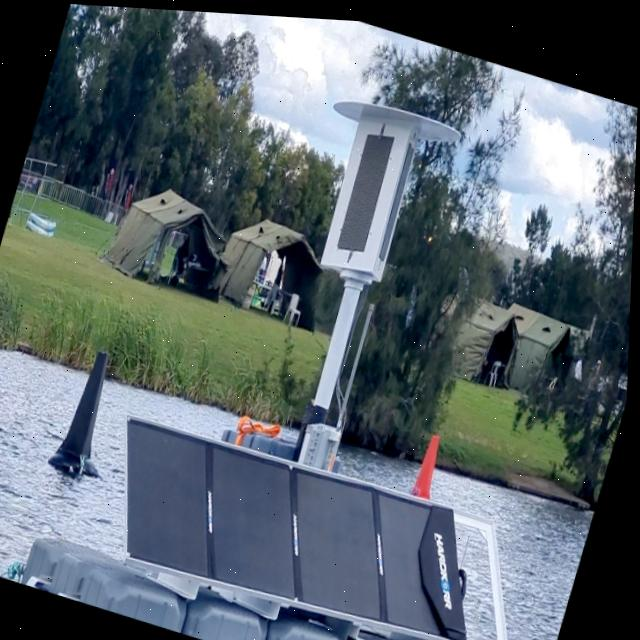led: (327, 111, 408, 263)
